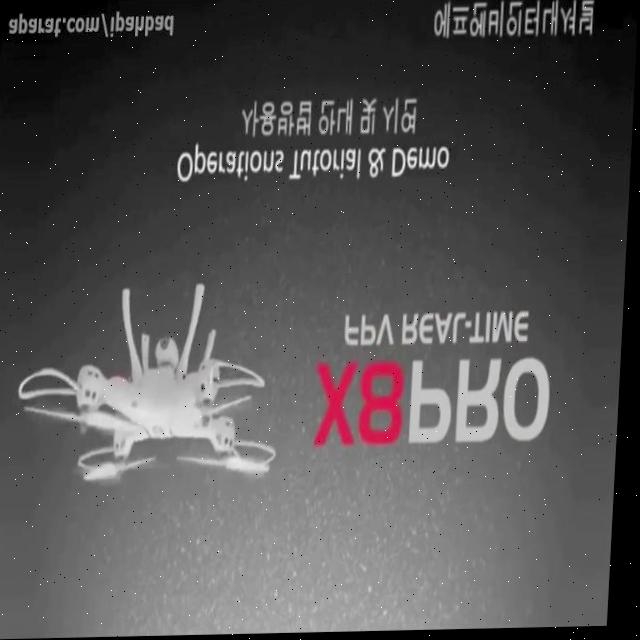drone: (18, 281, 287, 485)
